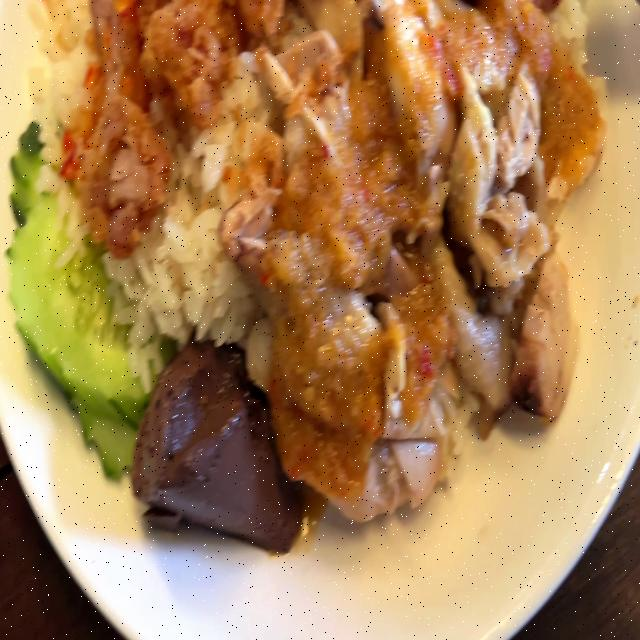boiled_chicken: (278, 43, 546, 494)
boiled_chicken_blood_jelly: (136, 344, 300, 549)
chicken_rice: (0, 0, 607, 555)
cucumber: (8, 109, 147, 464)
fried_chicken: (92, 0, 220, 250)
